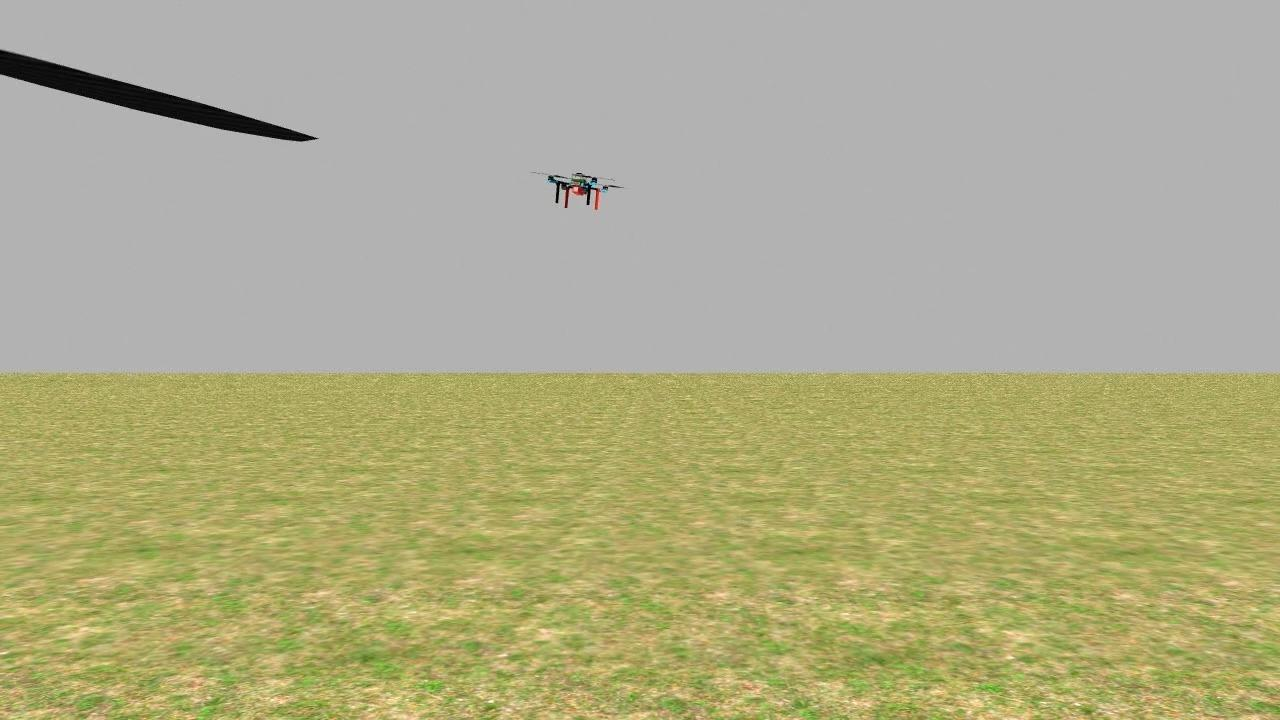UAV: (492, 146, 621, 243)
